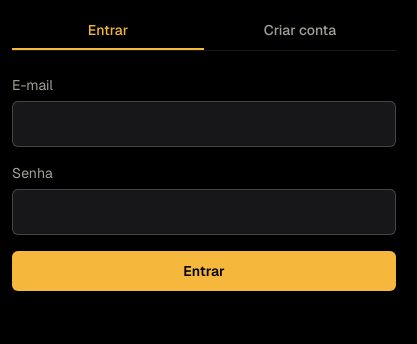
Test case: depois de um erro, o e-mail digitado continua no campo
Type "a@x.com" into the field labelled "E-mail".
click(204, 124); type("a@x.com")  # box [12,101,396,147]
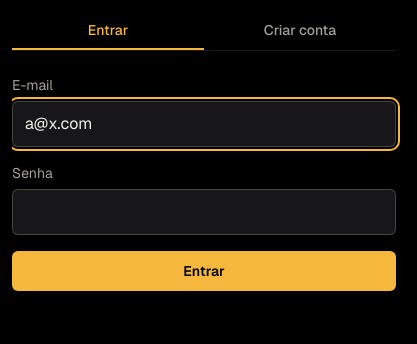
Type "123456" into the password field labelled "Senha".
click(204, 212); type("123456")  # box [12,189,396,235]
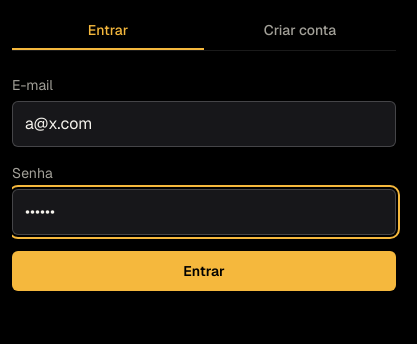
Click the button "Entrar".
click(204, 271)  # box [12,251,396,291]
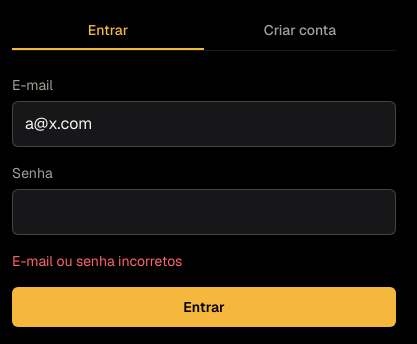
Expected: the message "E-mail ou senha incorretos" is shown, [12,252,182,270]
